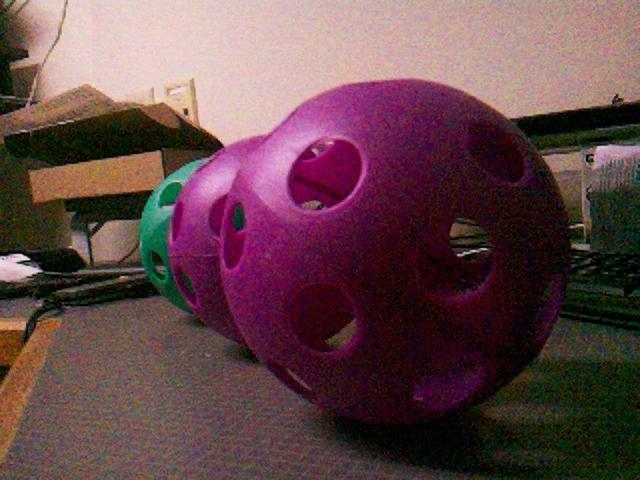Green: (137, 159, 212, 317)
Purple: (218, 83, 569, 427), (169, 133, 272, 349)
